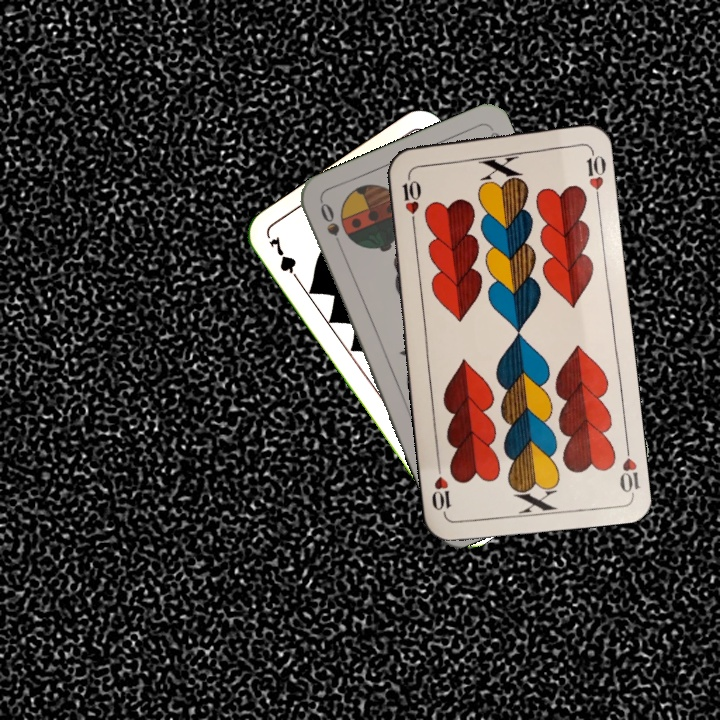G7: (264, 232, 304, 287)
H10: (615, 437, 641, 496), (397, 169, 422, 229)
SO: (316, 198, 347, 255)
